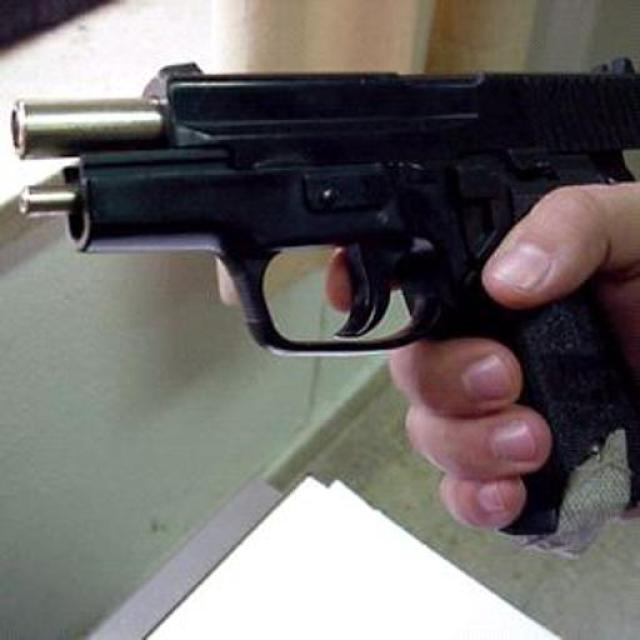pistol: (7, 62, 640, 535)
